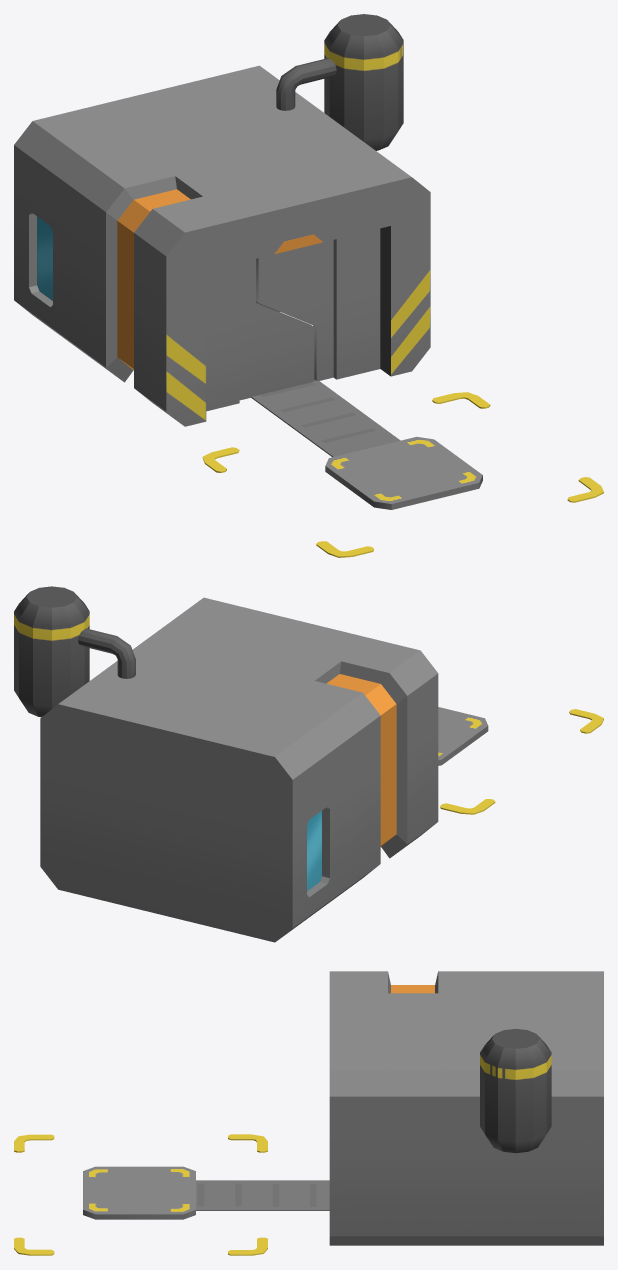
File: BLD_Ice_Store.fbx
3 renders of one model, top to bottom at view 1: azimuth 30°, elevation 25°; view 2: azimuth 150°, elevation 25°; view 3: azimuth 270°, elevation 25°, orthographic. The views are drawn at different scales.
Visible parts, largest first — view 1: BLD_Ice_Store_mesh, BLD_Ice_Store_Gate_L, BLD_Ice_Store_Gate_R; view 2: BLD_Ice_Store_mesh; view 3: BLD_Ice_Store_mesh.
Boxes of the visible parts, x1,y1,x2,y2 form: BLD_Ice_Store_mesh: [14, 14, 603, 557]; BLD_Ice_Store_Gate_L: [239, 259, 314, 400]; BLD_Ice_Store_Gate_R: [256, 240, 333, 380]; BLD_Ice_Store_mesh: [14, 586, 603, 942]; BLD_Ice_Store_mesh: [14, 971, 603, 1255].
Bounding box in the file's own units: 53 × 38.35 × 88.46.
